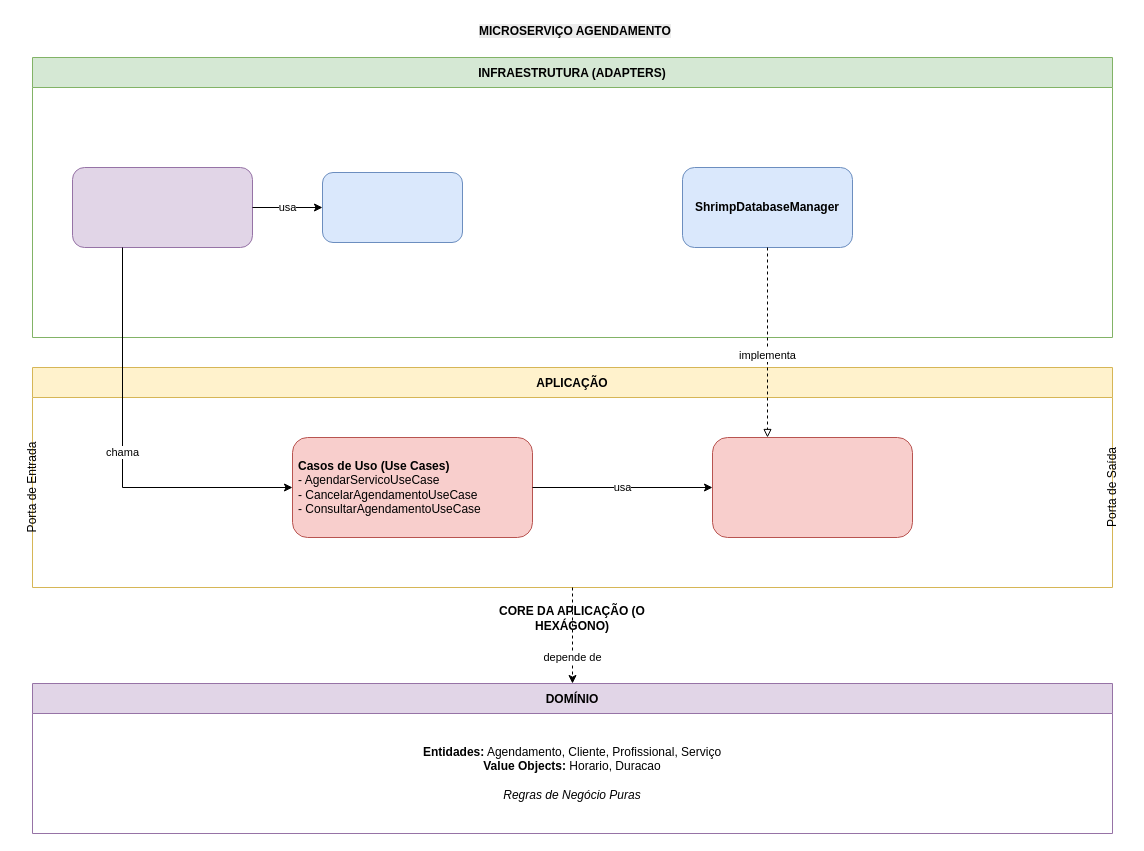
This 1144x851 diagram has some shape labels left out. Each missing label, with the centre of its shape:
Portas de Saída (Interfaces) - IAppointmentRepository - IUnitOfWork: the point at 812,487
ShrimpFramework (Servidor HTTP Puro): the point at 162,207
ShrimpJSONParser: the point at 392,207
